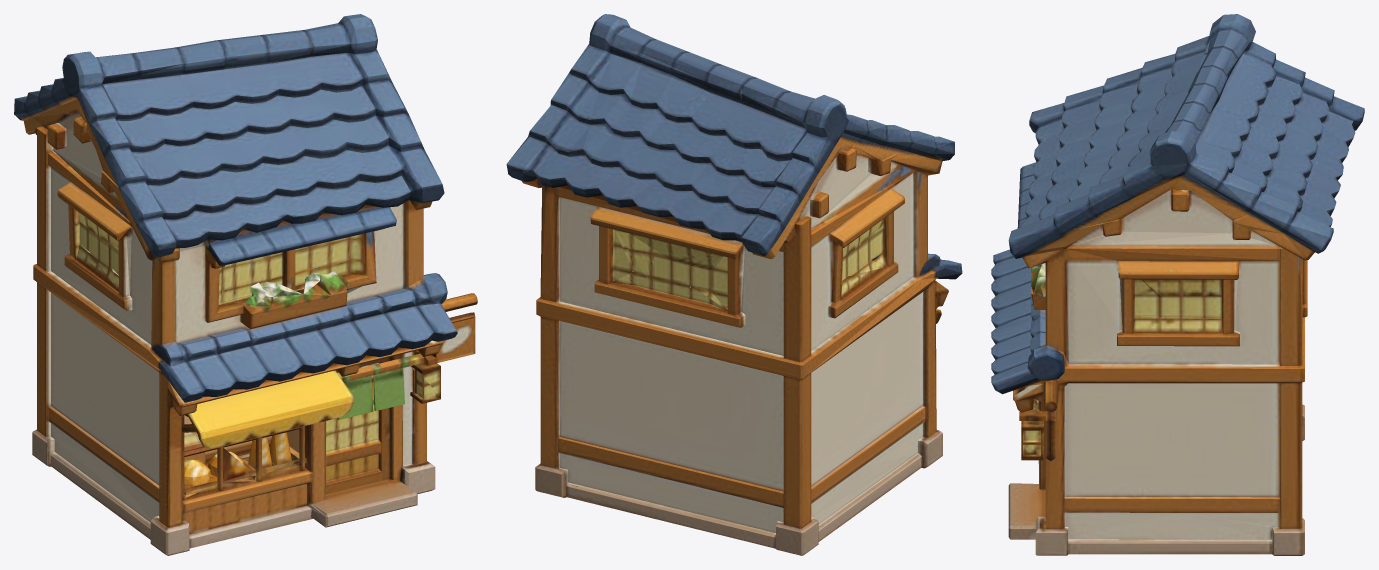
The model's file is bakery-BIW1MrAE.glb.
3 views of the same model, side by side, from view 1: azimuth 30°, elevation 25°; view 2: azimuth 150°, elevation 25°; view 3: azimuth 270°, elevation 25° (orthographic). The views are drawn at different scales.
Parts seen in each view (by area): view 1: tripo_node_bf27f9f9-9060-4043-b786-38ea4671a42b; view 2: tripo_node_bf27f9f9-9060-4043-b786-38ea4671a42b; view 3: tripo_node_bf27f9f9-9060-4043-b786-38ea4671a42b.
Part boxes in pixels (x1,y1,x2,y2): tripo_node_bf27f9f9-9060-4043-b786-38ea4671a42b: (14,14,477,555); tripo_node_bf27f9f9-9060-4043-b786-38ea4671a42b: (506,14,962,555); tripo_node_bf27f9f9-9060-4043-b786-38ea4671a42b: (991,14,1364,555).
Bounding box in the file's own units: 0.794 × 0.9777 × 0.7902.
Materials: 1 (1 with a texture image).
